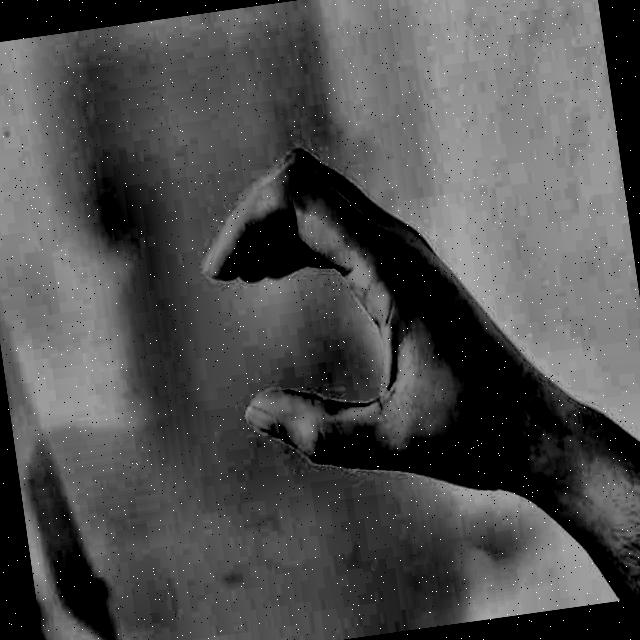A: (154, 110, 524, 568)
